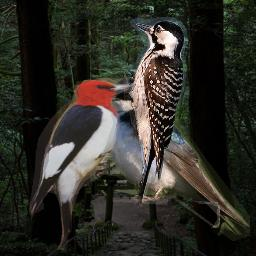Swallow: (102, 76, 250, 243)
Woodpecker: (29, 78, 135, 250), (124, 16, 187, 210)
